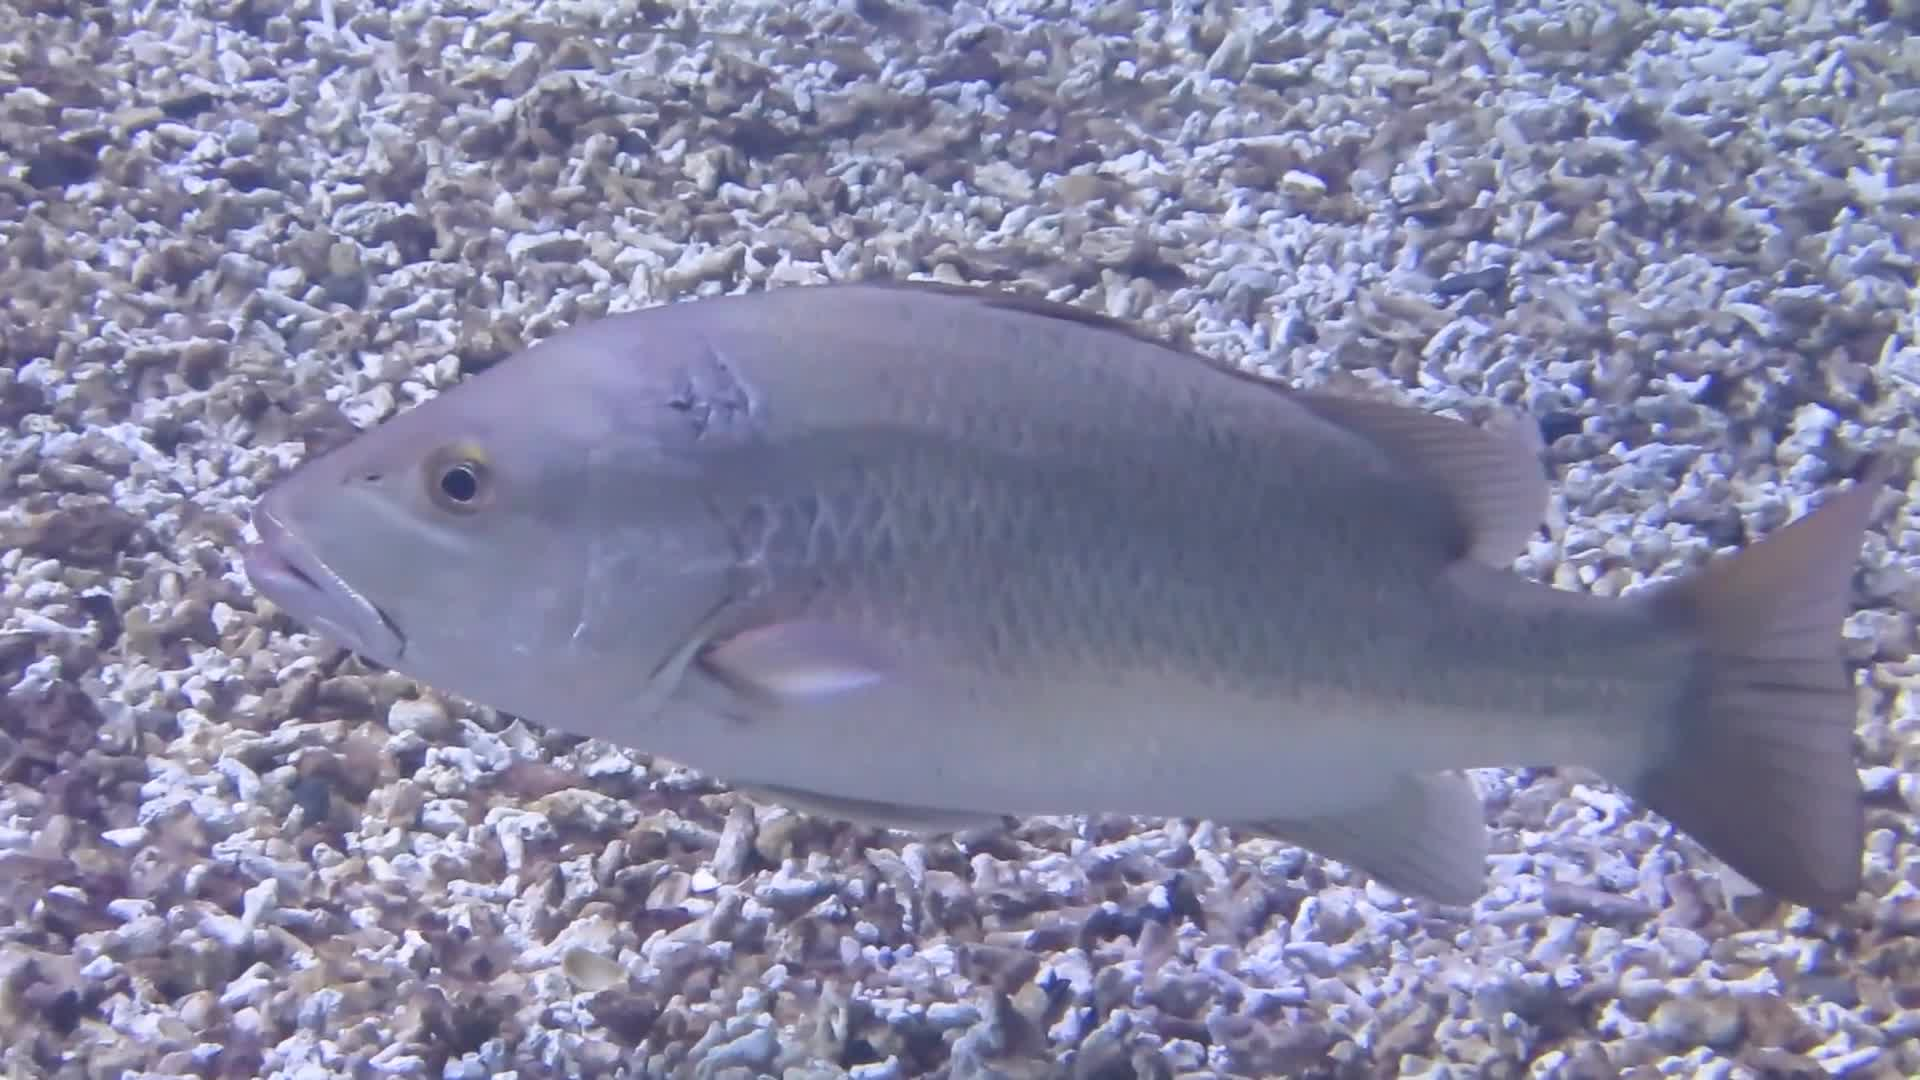Lutjanus argentimaculatus: (244, 270, 1648, 906)
